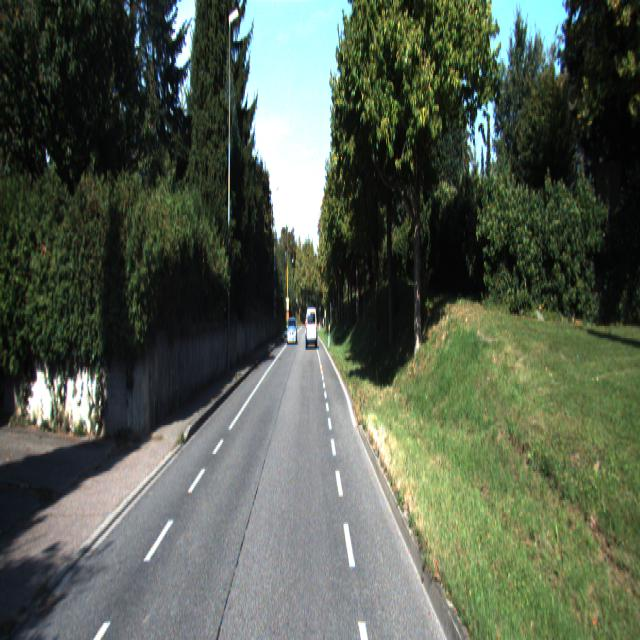Car: (304, 308, 318, 351), (286, 319, 298, 347)
